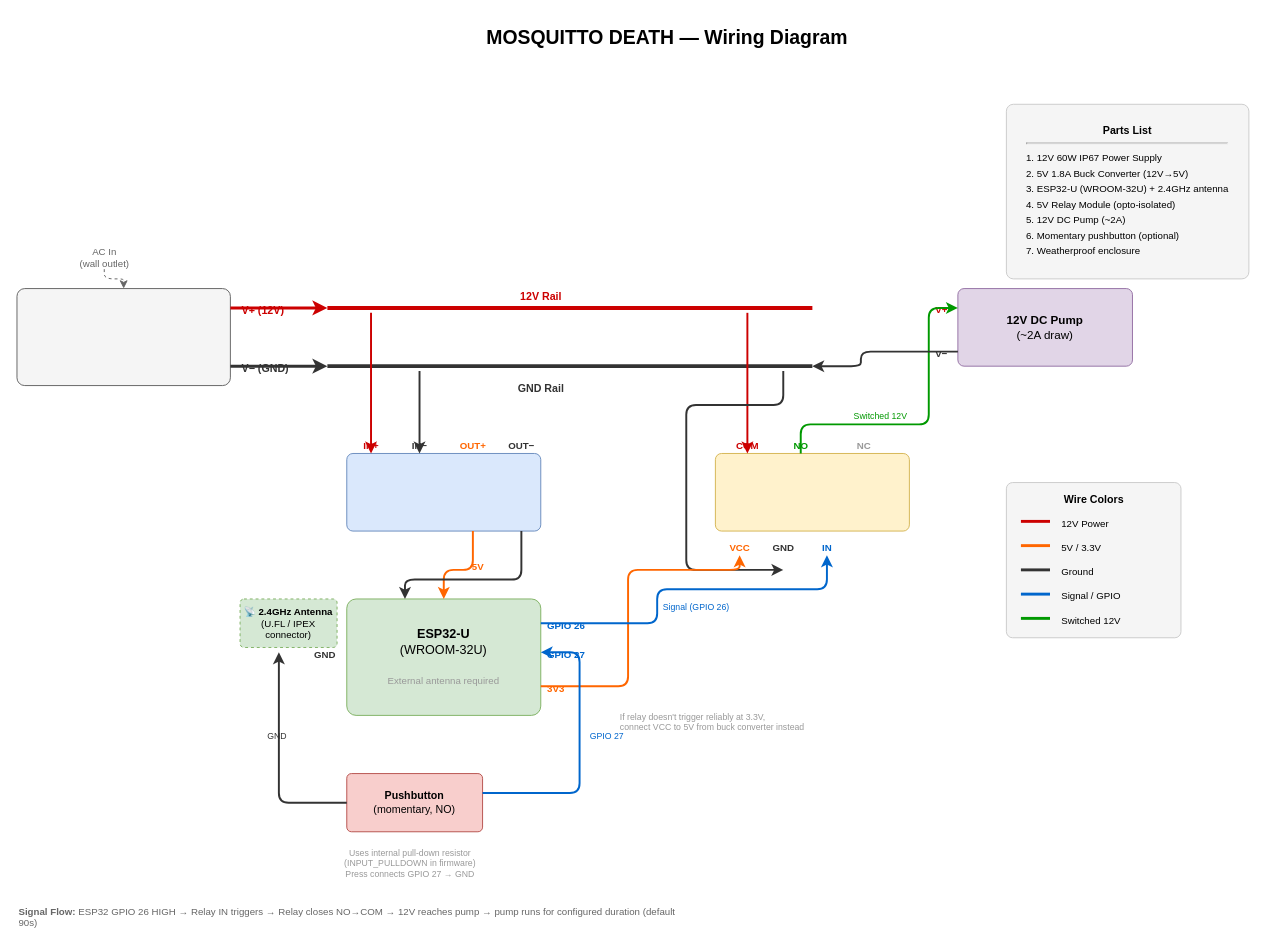
Some shapes in this 1266 by 946 pixel diagram are drawn without their labels. Each missing label, with the box of its shape:
12V 60W Power Supply (IP67 LED Driver) AC 100-265V → DC 12V 5A: (16, 288, 230, 386)
Buck Converter IN: 5-30V → OUT: 5V 1.8A: (346, 453, 541, 531)
Relay Module (5V coil, opto-isolated): (714, 453, 909, 531)
